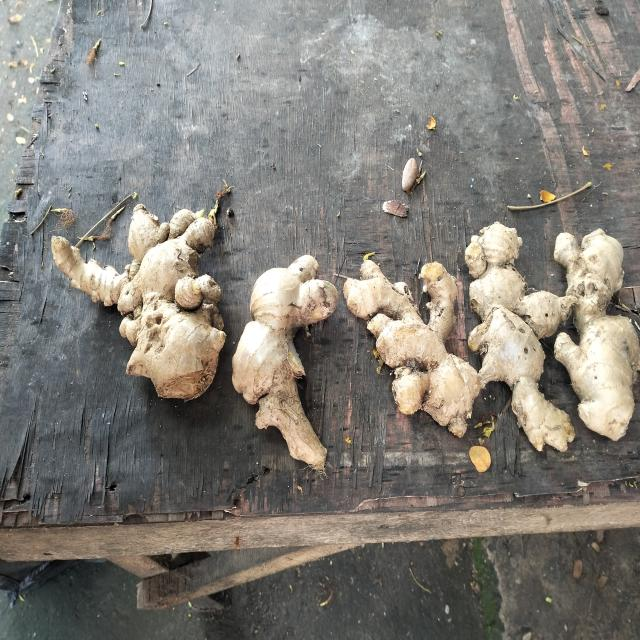ginger: (51, 190, 226, 401), (456, 209, 570, 468), (345, 251, 479, 448), (237, 272, 336, 466), (555, 232, 640, 433)
